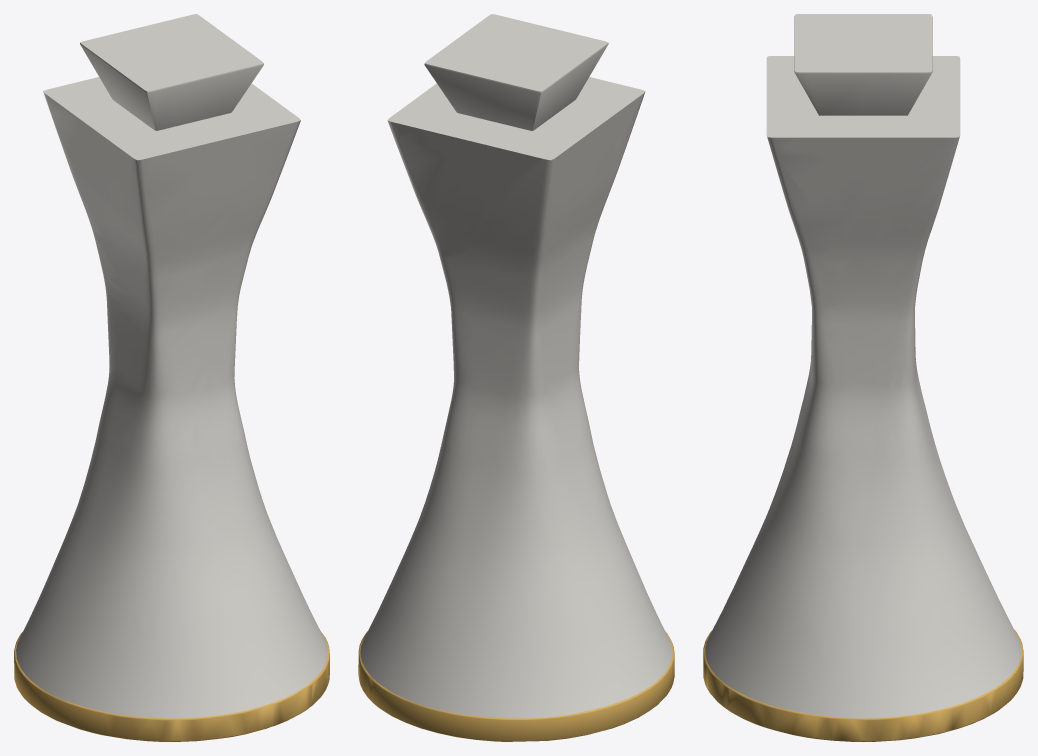
Rendered from king-white.glb.
The picture shows the model from 3 angles, left to right: view 1: azimuth 30°, elevation 25°; view 2: azimuth 150°, elevation 25°; view 3: azimuth 270°, elevation 25°; orthographic projection.
Parts seen in each view (by area): view 1: 06_kral_telo_0, 06_kral_telo_1, 06_kral_podstavec; view 2: 06_kral_telo_0, 06_kral_telo_1, 06_kral_podstavec; view 3: 06_kral_telo_0, 06_kral_telo_1, 06_kral_podstavec.
Part boxes in pixels (left/top/right/bottom): 06_kral_telo_0: left=16, top=77, right=327, bottom=718; 06_kral_telo_1: left=80, top=14, right=263, bottom=130; 06_kral_podstavec: left=14, top=632, right=329, bottom=741; 06_kral_telo_0: left=360, top=77, right=672, bottom=718; 06_kral_telo_1: left=424, top=14, right=608, bottom=130; 06_kral_podstavec: left=358, top=631, right=674, bottom=741; 06_kral_telo_0: left=705, top=56, right=1021, bottom=718; 06_kral_telo_1: left=794, top=14, right=932, bottom=115; 06_kral_podstavec: left=703, top=629, right=1023, bottom=741.
Size of the model in its own units: 0.7586 by 1.65 by 0.7585.
